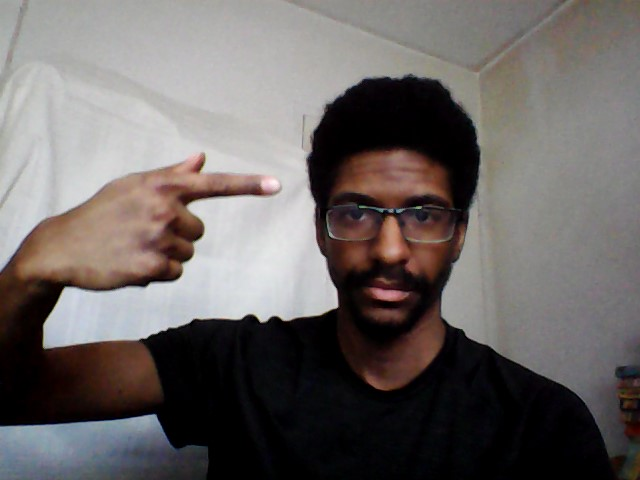g: (58, 149, 286, 300)
